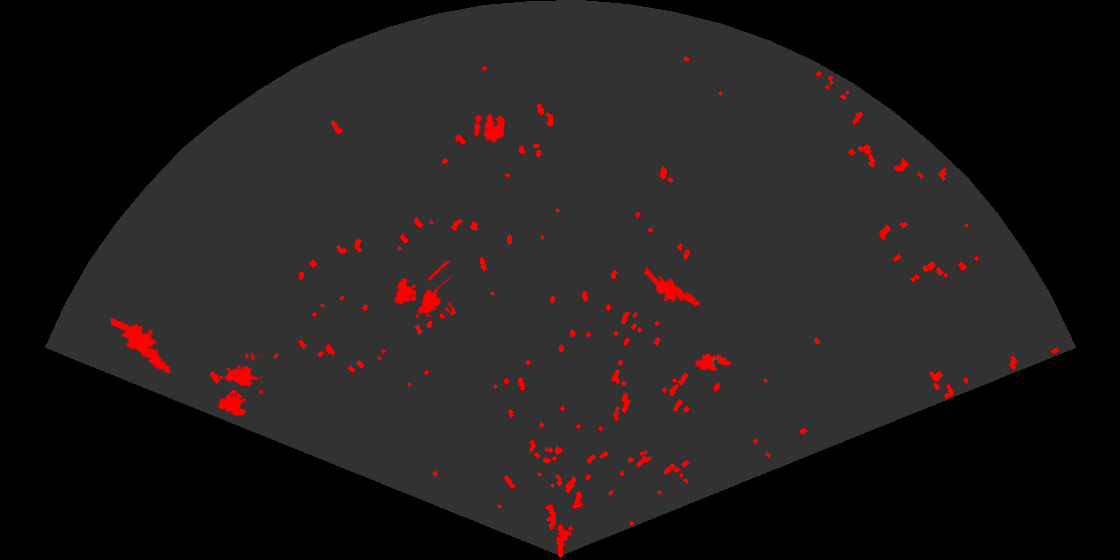AUV: (693, 351, 734, 373)
ball: (472, 111, 507, 145)
cage: (393, 261, 452, 320), (216, 353, 263, 418)
frogman: (111, 316, 172, 376), (646, 265, 702, 308)
